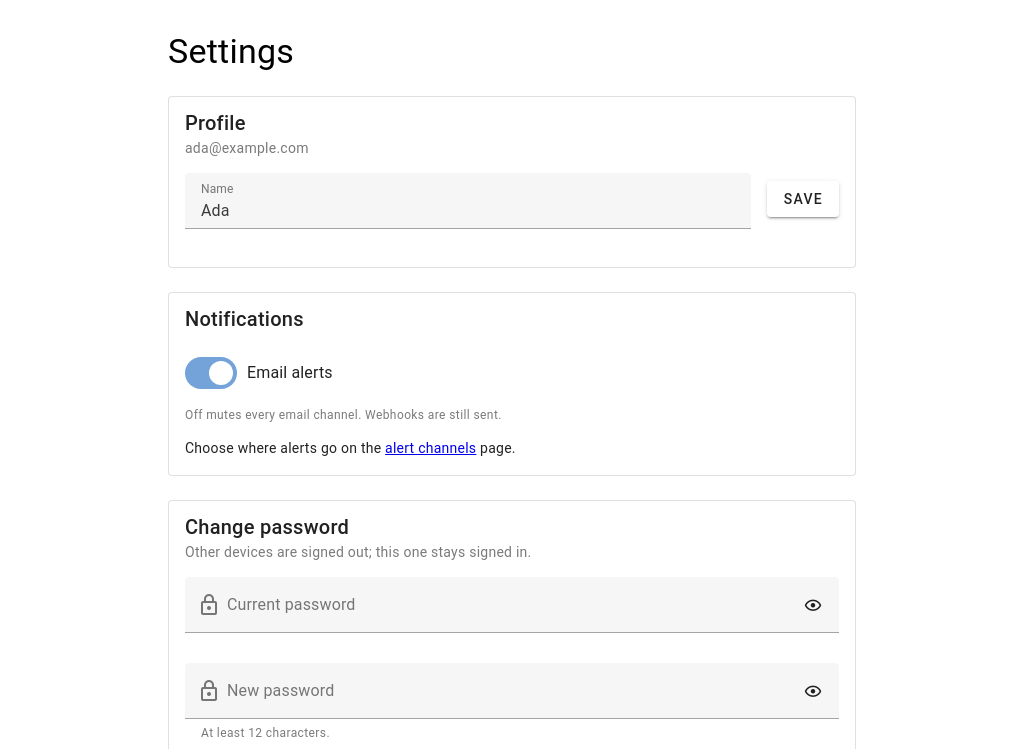
Test: SettingsView › flags a wrong current password on its field
This screenshot has width=1024, height=749.
Type "wrong password" into the password field labelled "Current password" at (510, 605), box [221, 577, 799, 633]
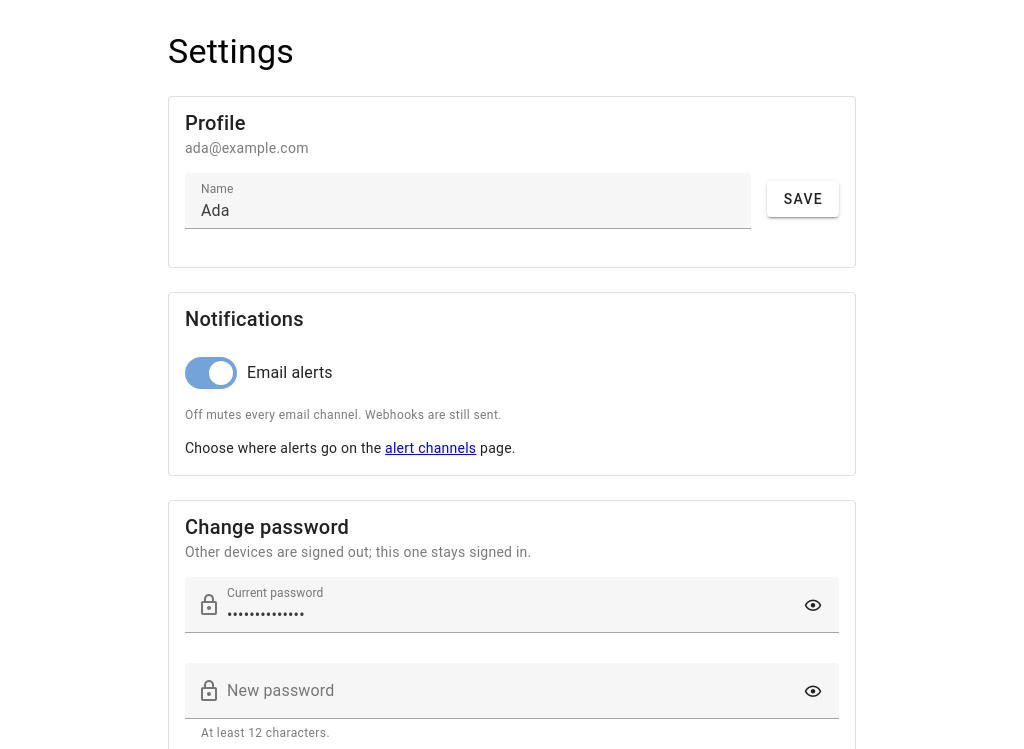
Type "a brand new passphrase" into the password field labelled "New password" at (510, 691), box [221, 663, 799, 719]
(page scrolled)
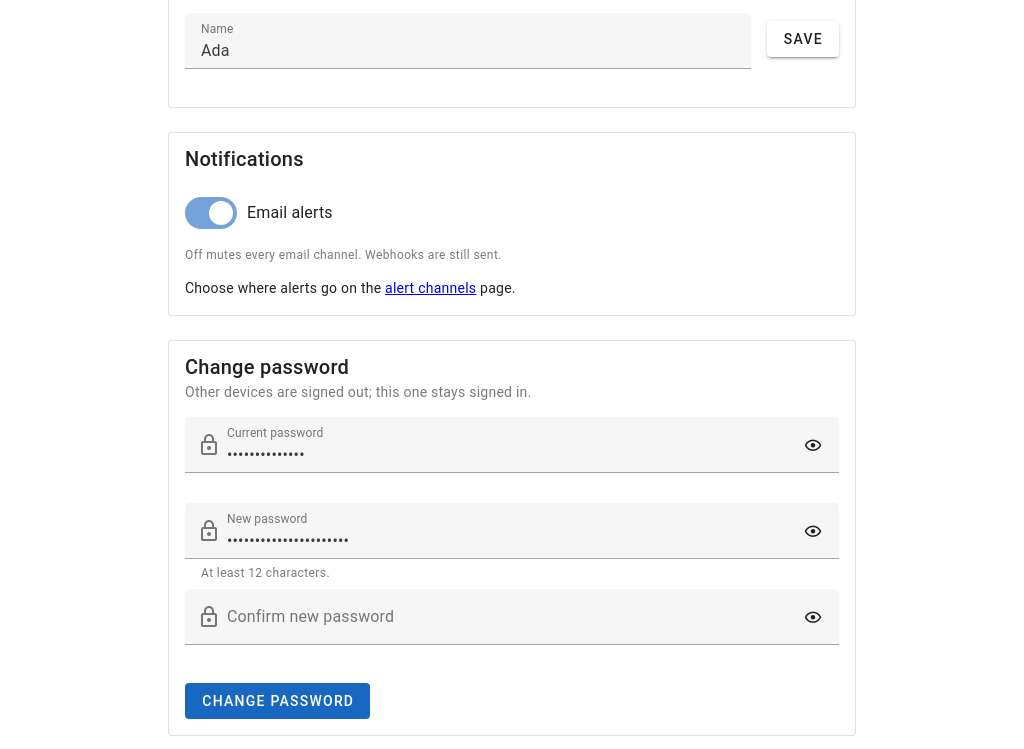
Type "a brand new passphrase" into the password field labelled "Confirm new password" at (510, 617), box [221, 589, 799, 645]
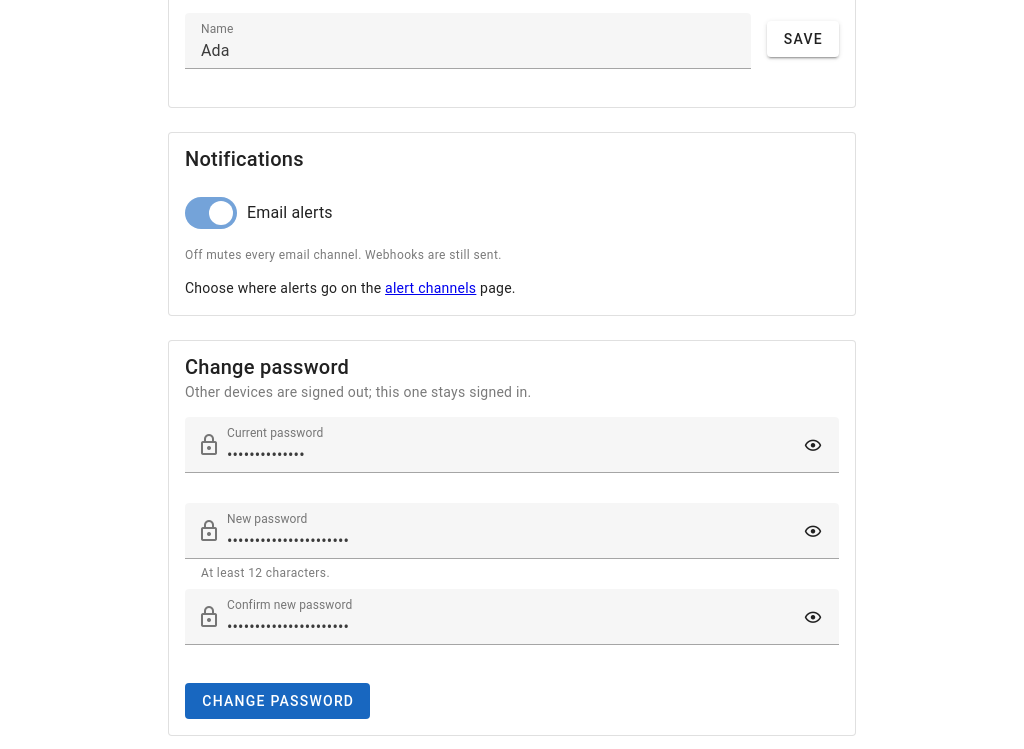
Submit the form with test id "password-form", box [185, 417, 839, 719]
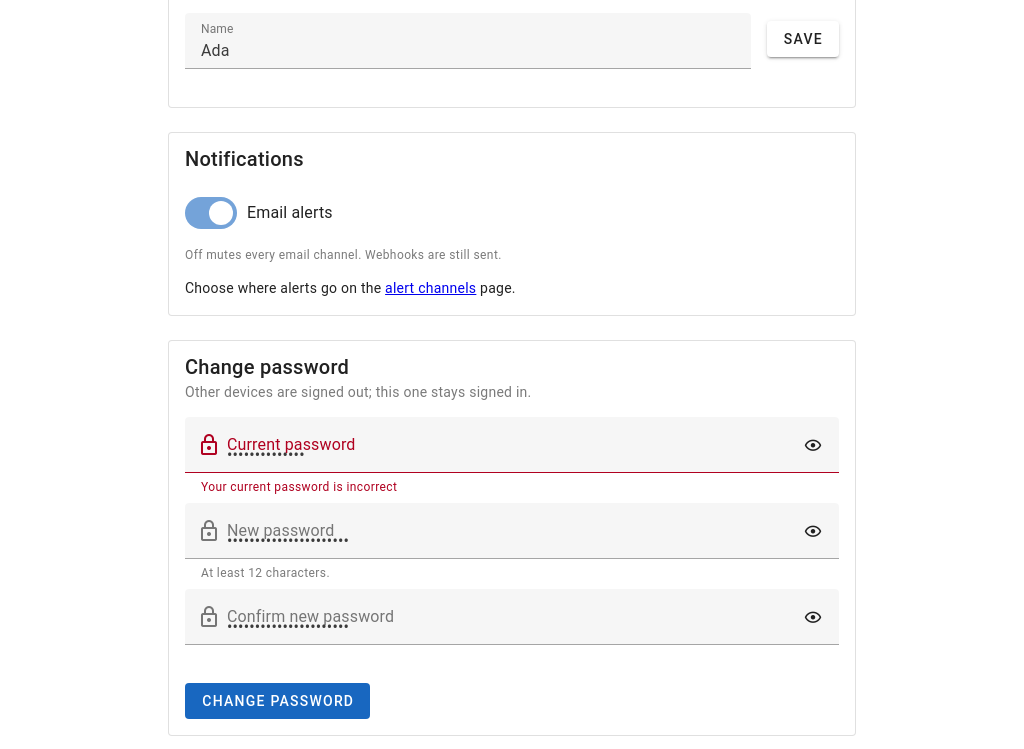
Result: the text "Your current password is incorrect" is shown at [201, 480, 397, 494]
Result: the element with test id "current-password" shows "Your current password is incorrect" at [201, 480, 397, 494]
